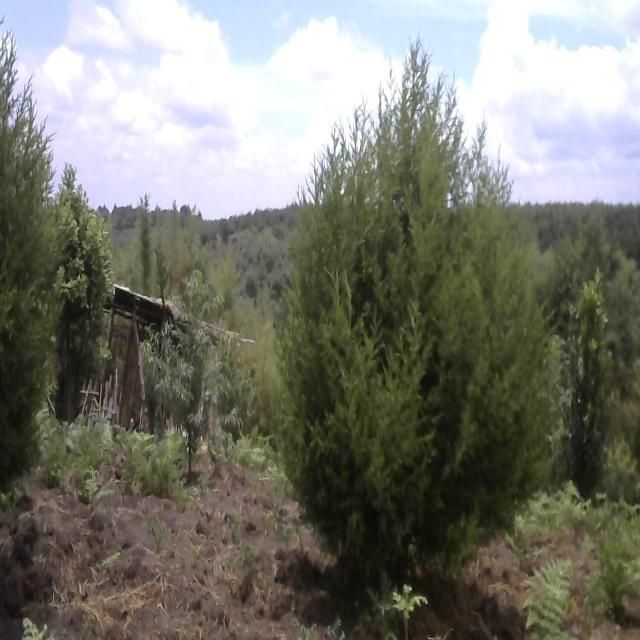cedrus: (278, 92, 546, 596), (0, 52, 60, 480)
other: (556, 273, 618, 468)
